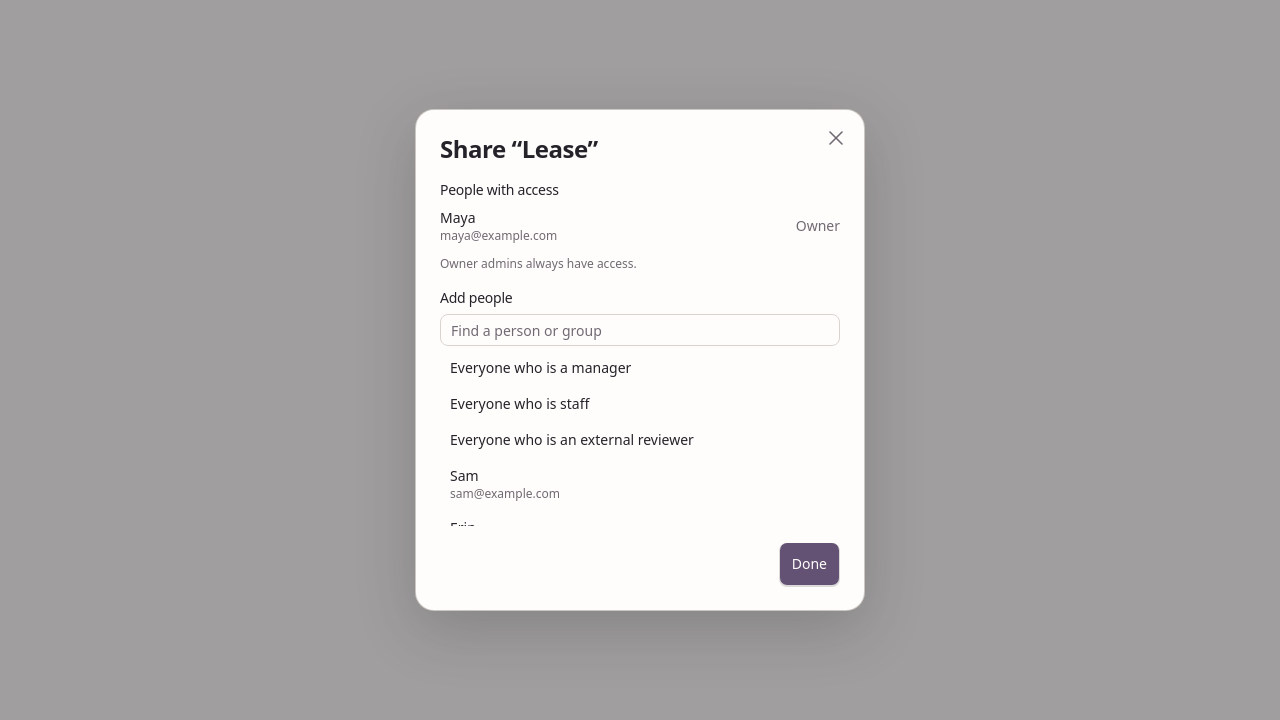
ShareDialog › says why when the change is refused, and keeps what it showed
Click the button "Sam sam@example.com" at (505, 494), box [440,458,840,510]
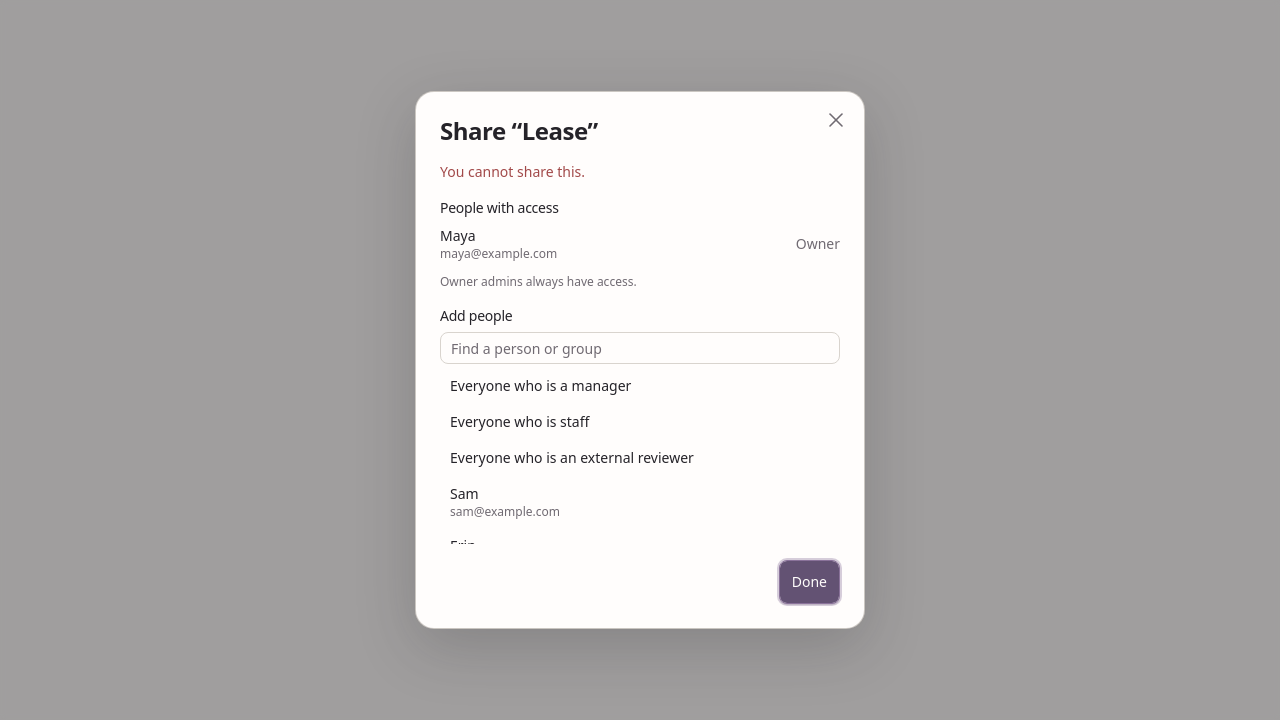
Expected: the message "You cannot share this." is shown, [440,162,585,181]
